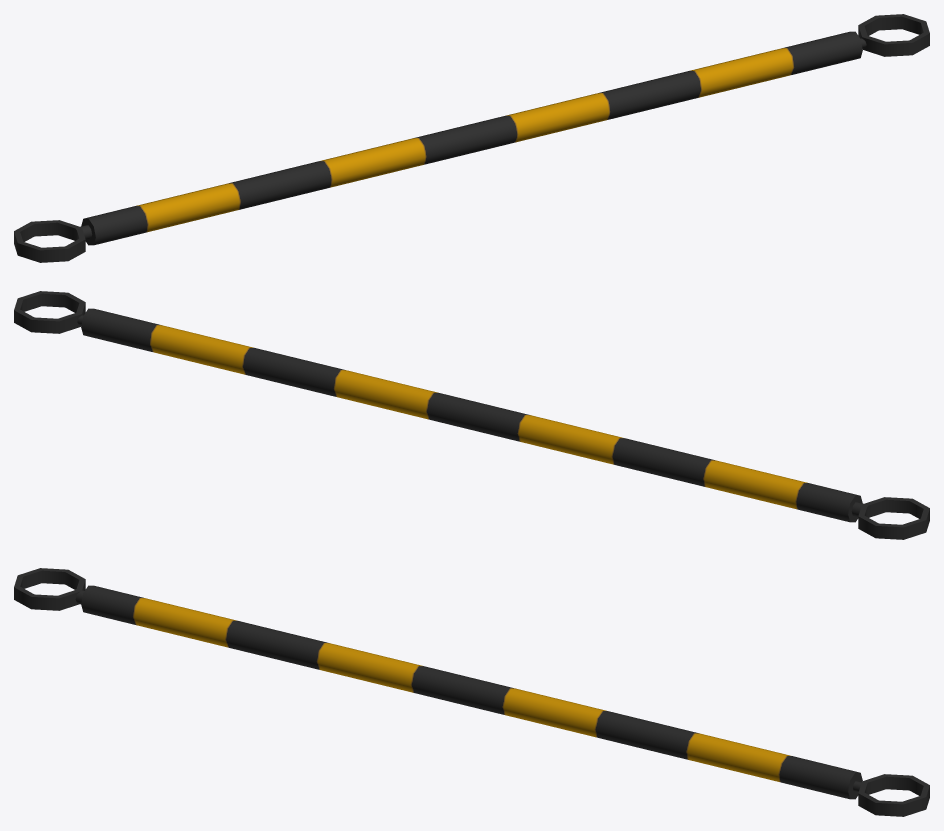
Rendered from CornBar.fbx.
3 views of the same model, one above another, from view 1: azimuth 30°, elevation 25°; view 2: azimuth 150°, elevation 25°; view 3: azimuth 330°, elevation 25° (orthographic).
Parts seen in each view (by area): view 1: cornbar; view 2: cornbar; view 3: cornbar.
Boxes of the visible parts, x1,y1,x2,y2 form: cornbar: (14,14,929,262); cornbar: (14,291,929,539); cornbar: (14,568,929,816).
Size of the model in its own units: 0.1103 by 0.00312 by 0.0078.
1 material, 1 textured.
